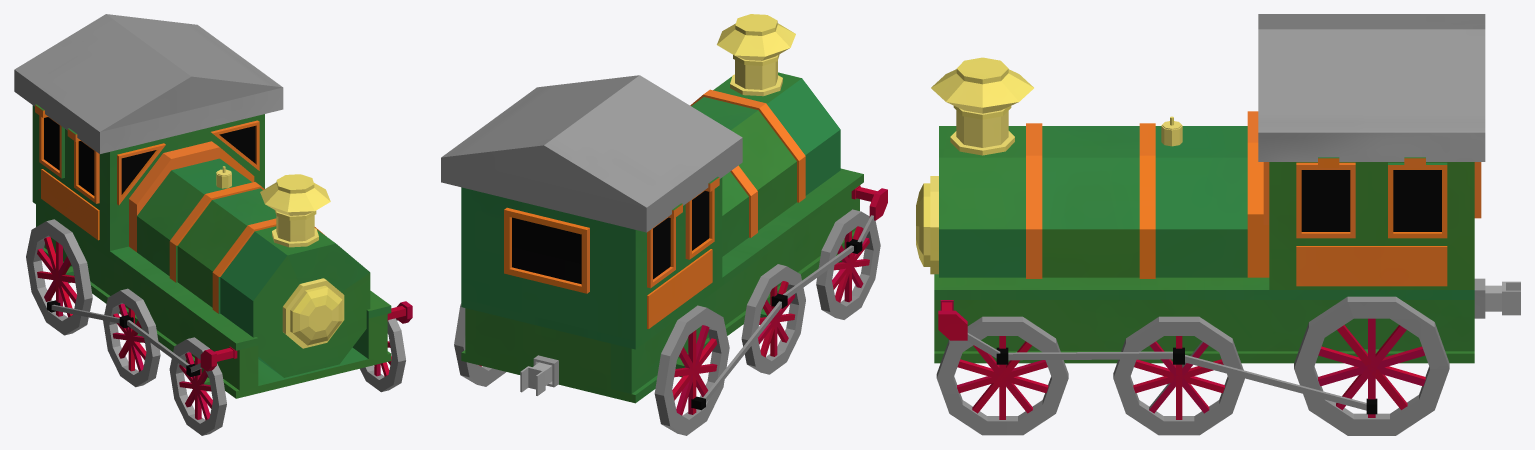
File: Locomotive.fbx
The picture shows the model from 3 angles, left to right: view 1: azimuth 30°, elevation 25°; view 2: azimuth 150°, elevation 25°; view 3: azimuth 270°, elevation 25°; orthographic projection. The views are drawn at different scales.
Parts seen in each view (by area): view 1: Plane.000_Plane.008; view 2: Plane.000_Plane.008; view 3: Plane.000_Plane.008.
Boxes of the visible parts, x1=… form: Plane.000_Plane.008: x1=14, y1=14, x2=412, y2=435; Plane.000_Plane.008: x1=441, y1=14, x2=887, y2=435; Plane.000_Plane.008: x1=916, y1=14, x2=1520, y2=435.
Size of the model in its own units: 243 by 301 by 477.
